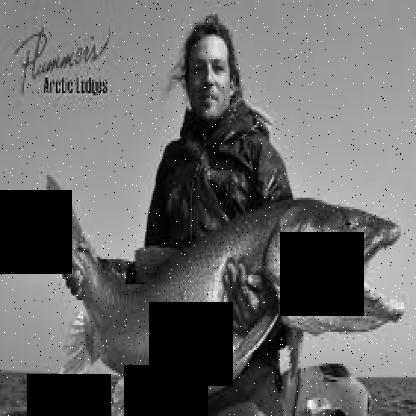fish: (0, 166, 414, 398)
